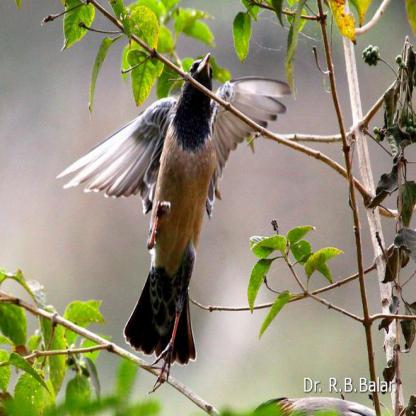Burung: (62, 51, 290, 378)
